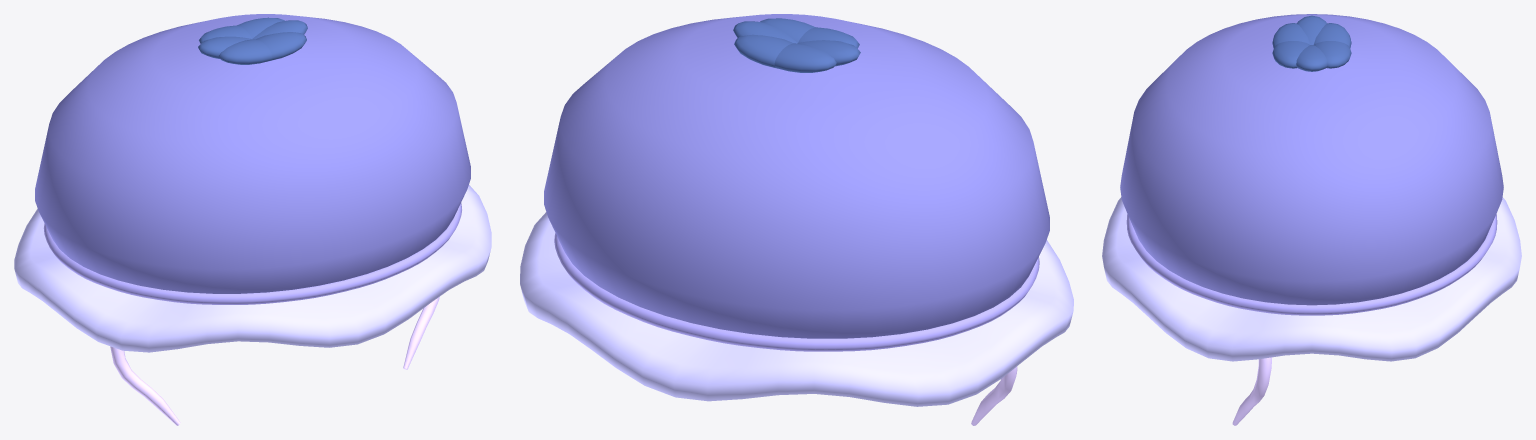
The model's file is blue_bonnet.glb.
The picture shows the model from 3 angles, left to right: view 1: azimuth 30°, elevation 25°; view 2: azimuth 150°, elevation 25°; view 3: azimuth 270°, elevation 25°; orthographic projection. The views are drawn at different scales.
Parts seen in each view (by area): view 1: Blueberry Bonnet; view 2: Blueberry Bonnet; view 3: Blueberry Bonnet.
Boxes of the visible parts, x1=… form: Blueberry Bonnet: x1=14, y1=14, x2=491, y2=425; Blueberry Bonnet: x1=520, y1=14, x2=1073, y2=425; Blueberry Bonnet: x1=1102, y1=14, x2=1521, y2=425.
Bounding box in the file's own units: 1 × 0.7511 × 0.86.
